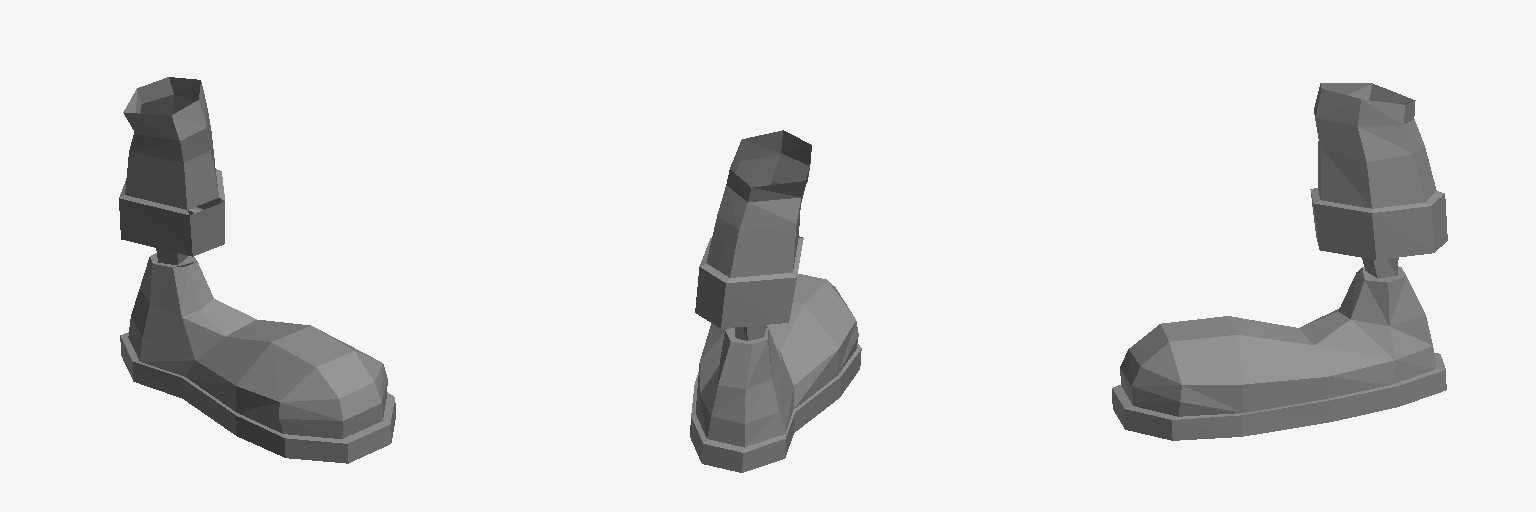
Rendered from RodillaIzq.obj.
3 views of the same model, side by side, from view 1: azimuth 30°, elevation 25°; view 2: azimuth 150°, elevation 25°; view 3: azimuth 270°, elevation 25° (orthographic).
Parts seen in each view (by area): view 1: RodillasIzq_Mesh_0030.010; view 2: RodillasIzq_Mesh_0030.010; view 3: RodillasIzq_Mesh_0030.010.
Part boxes in pixels (x1,y1,x2,y2): RodillasIzq_Mesh_0030.010: (119,77,395,463); RodillasIzq_Mesh_0030.010: (690,130,861,472); RodillasIzq_Mesh_0030.010: (1112,83,1447,440).
Size of the model in its own units: 8.98 by 14.89 by 15.12.